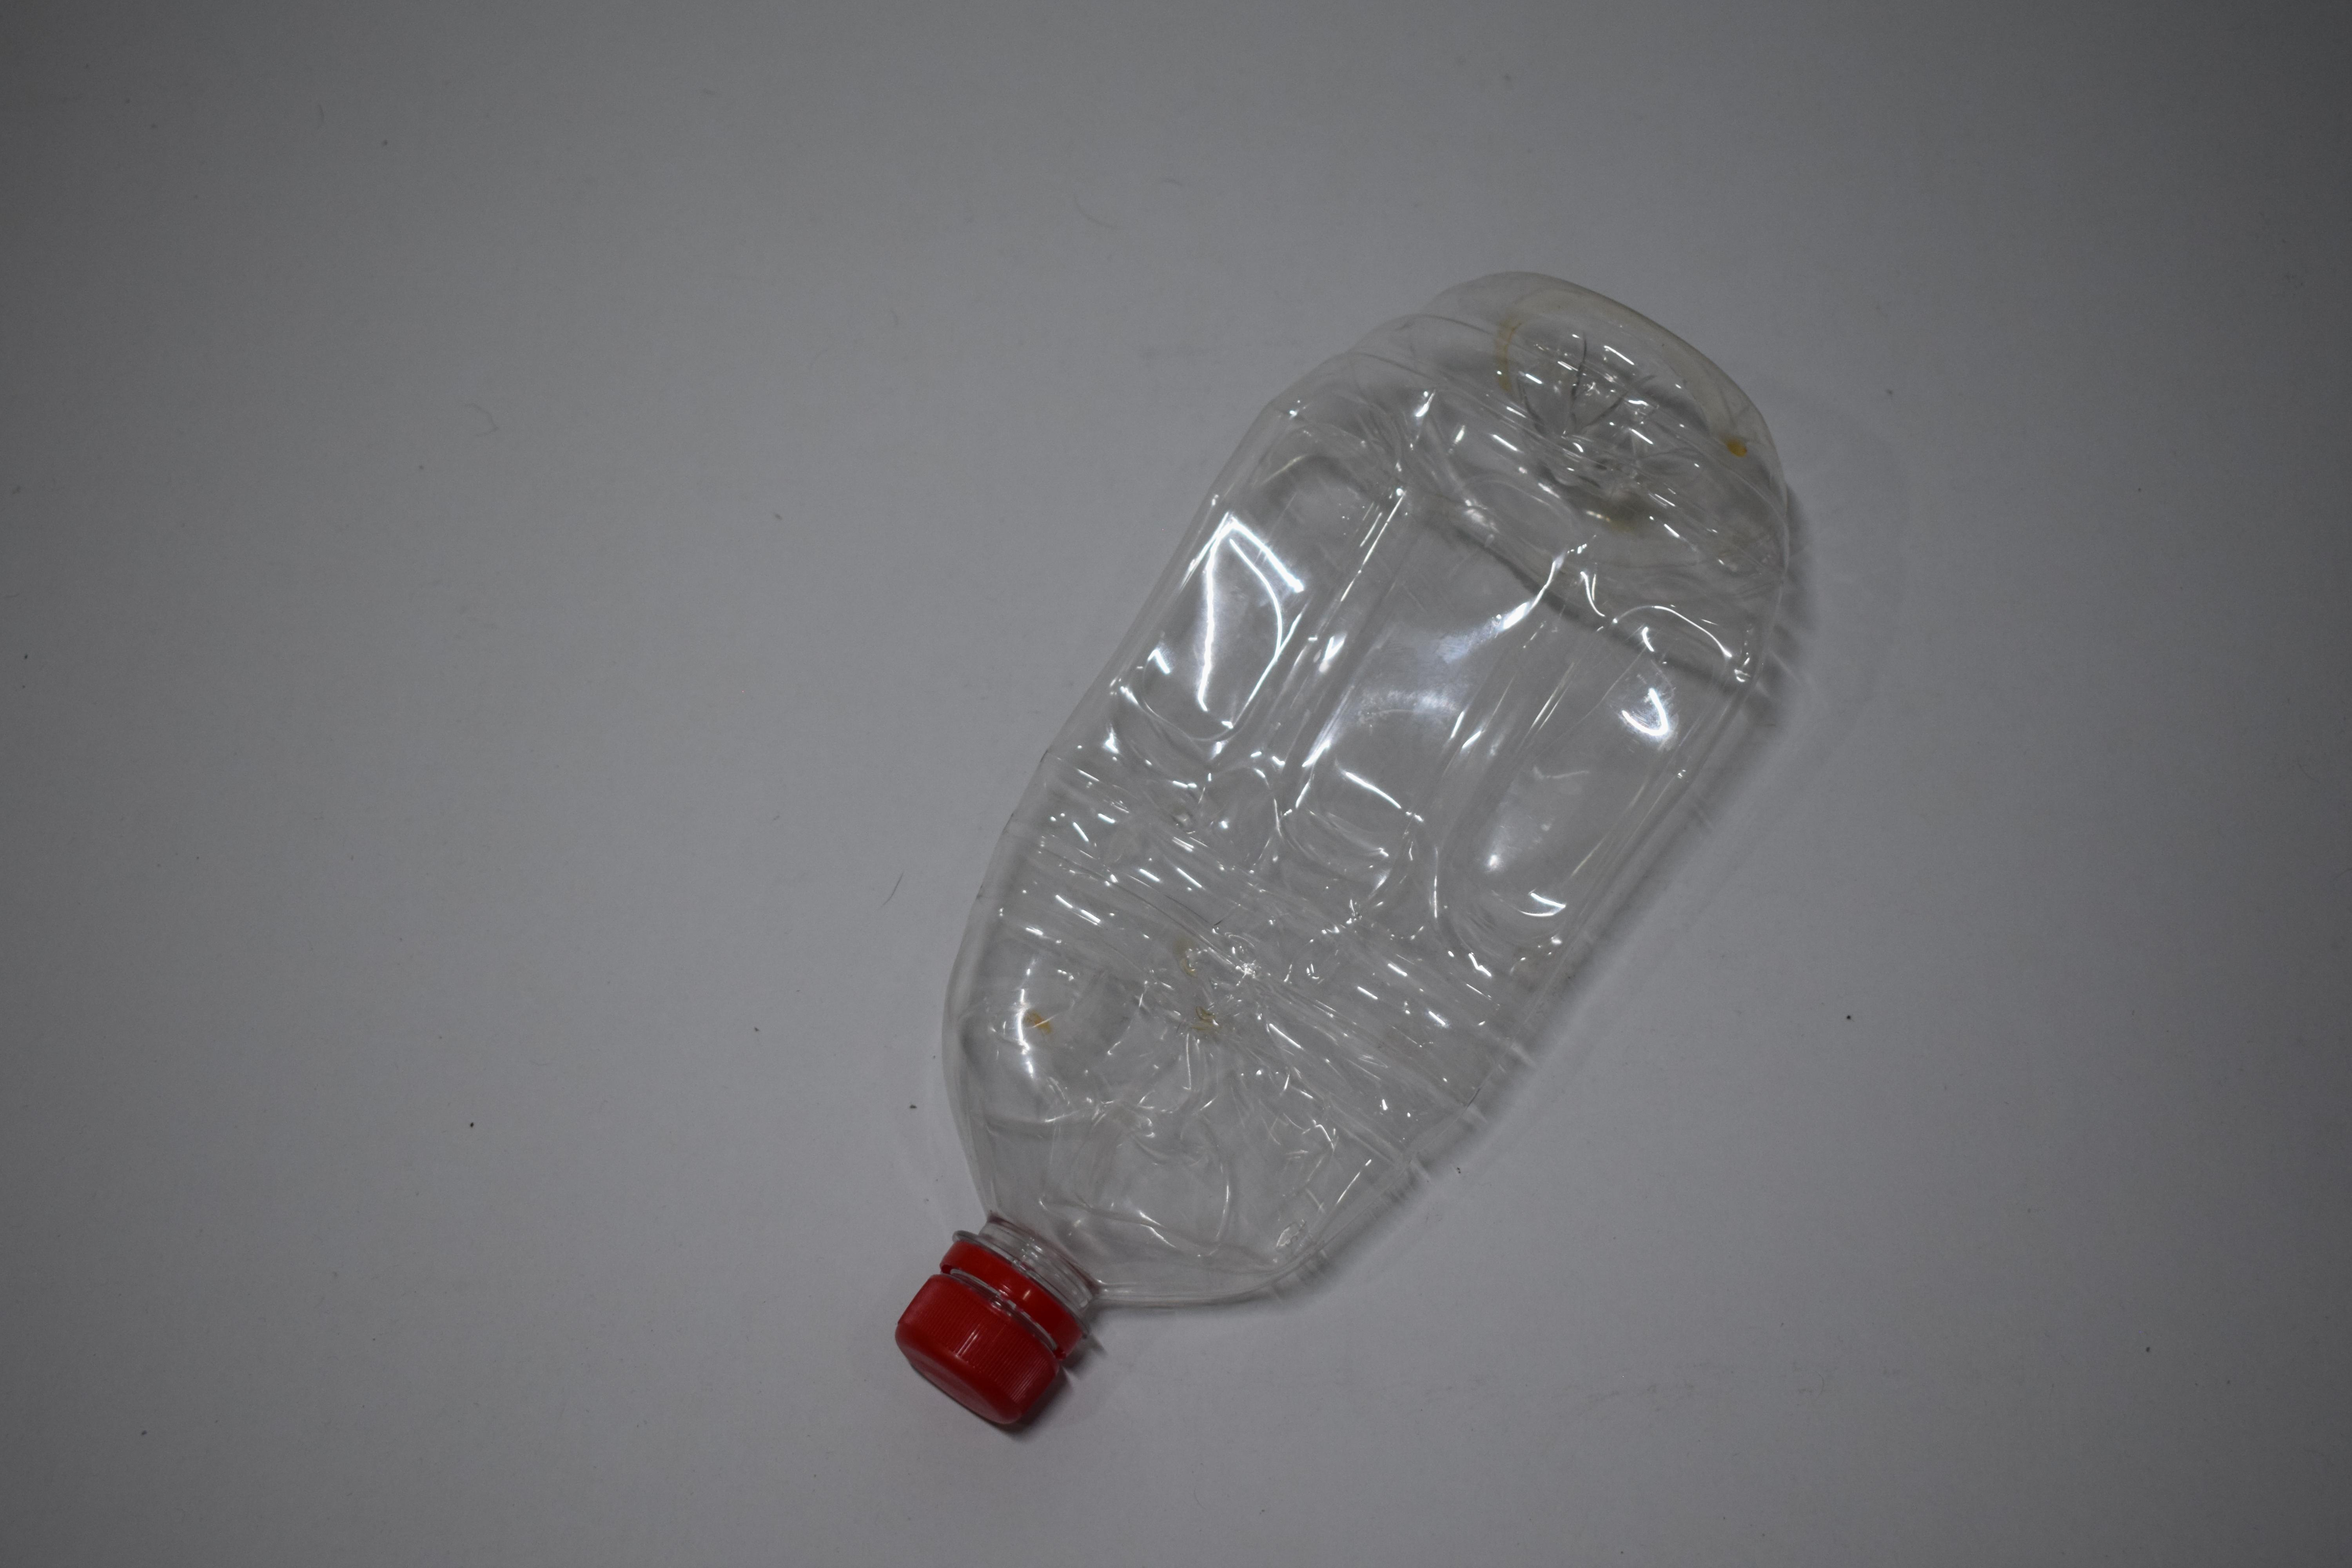bottle: (0, 0, 625, 619)
